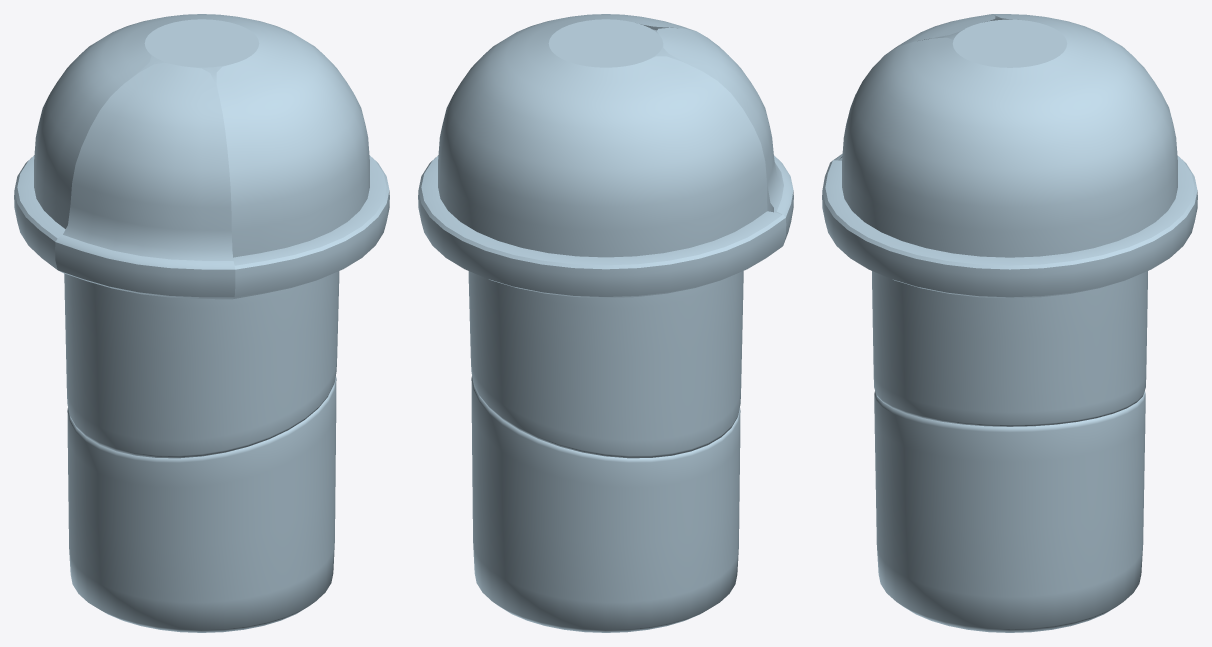
Rendered from JarBreak.fbx.
3 renders of one model, left to right at view 1: azimuth 30°, elevation 25°; view 2: azimuth 150°, elevation 25°; view 3: azimuth 270°, elevation 25°, orthographic.
Visible parts, largest first — view 1: JarP01, JarP05, JarP02, JPar04, JarP03; view 2: JarP05, JarP01, JarP02, JPar04, JarP03; view 3: JarP05, JarP01, JarP02, JarP03, JPar04.
Part boxes in pixels (x1,y1,x2,y2): JarP01: [67, 376, 336, 632]; JarP05: [14, 14, 389, 298]; JarP02: [64, 271, 339, 458]; JPar04: [55, 62, 235, 299]; JarP03: [144, 19, 259, 67]; JarP05: [418, 14, 786, 298]; JarP01: [471, 376, 740, 632]; JarP02: [468, 271, 743, 458]; JPar04: [657, 27, 793, 244]; JarP03: [548, 19, 663, 67]; JarP05: [822, 14, 1197, 298]; JarP01: [874, 391, 1145, 632]; JarP02: [872, 271, 1147, 426]; JarP03: [952, 19, 1067, 67]; JPar04: [833, 14, 995, 160].
Bounding box in the file's own units: 60.78 × 95.97 × 60.63.
